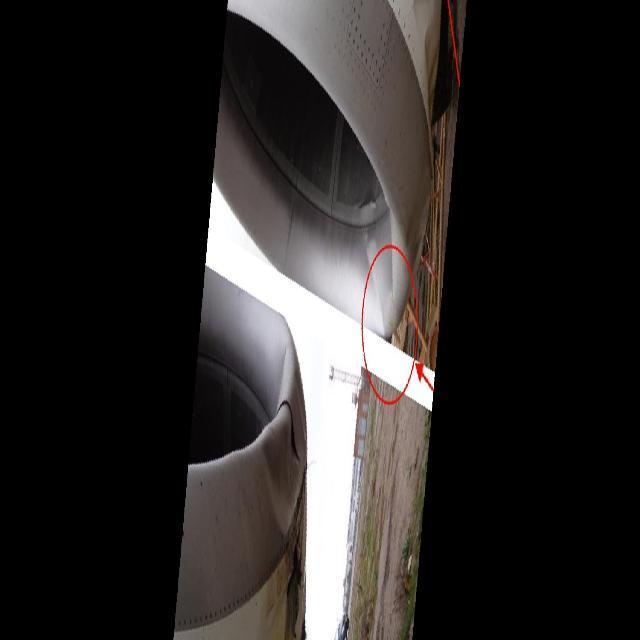dent: (352, 214, 412, 345), (262, 438, 301, 530)
